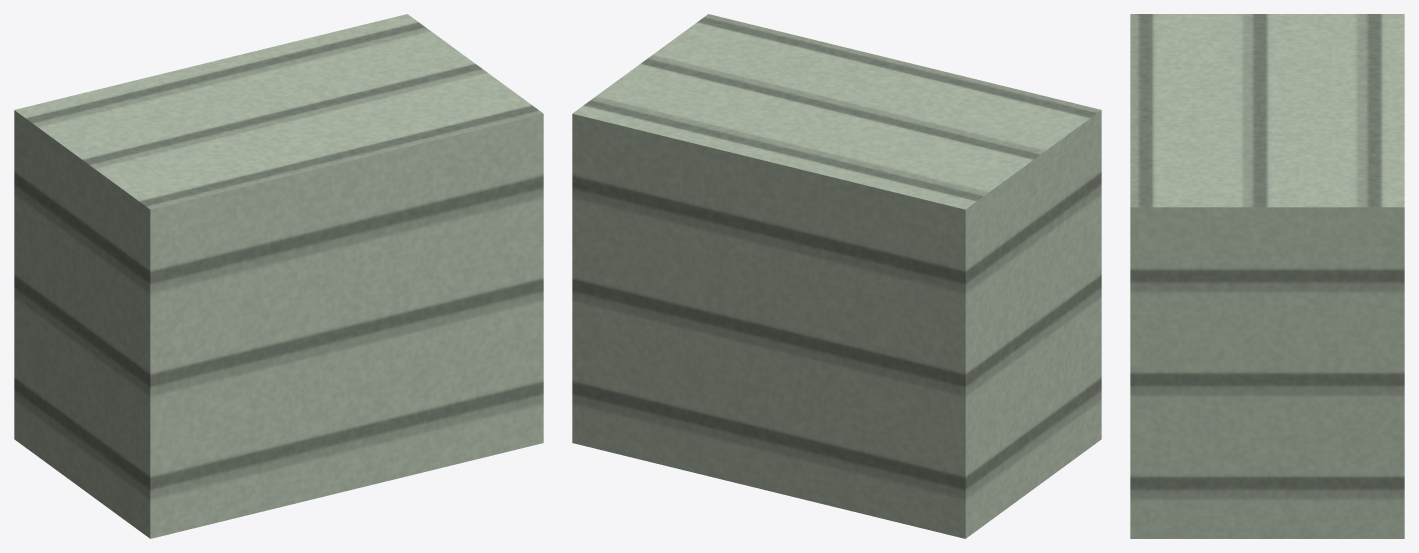
The model's file is sewing_machine.glb.
3 views of the same model, side by side, from view 1: azimuth 30°, elevation 25°; view 2: azimuth 150°, elevation 25°; view 3: azimuth 270°, elevation 25° (orthographic).
Parts seen in each view (by area): view 1: sewing_machine-col; view 2: sewing_machine-col; view 3: sewing_machine-col.
Part boxes in pixels (box(x1,y1,x2,y2)): sewing_machine-col: box(14, 14, 543, 538); sewing_machine-col: box(572, 14, 1101, 538); sewing_machine-col: box(1130, 14, 1404, 538).
Bounding box in the file's own units: 0.5 × 0.4 × 0.3.
1 material, 1 textured.
